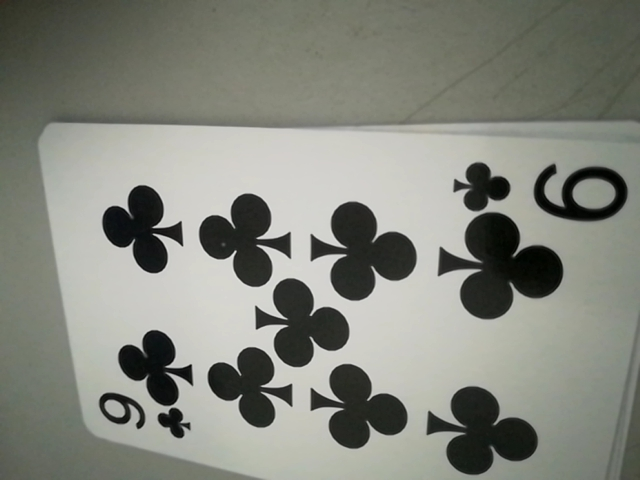mh 9: (449, 154, 626, 220), (93, 392, 197, 446)
